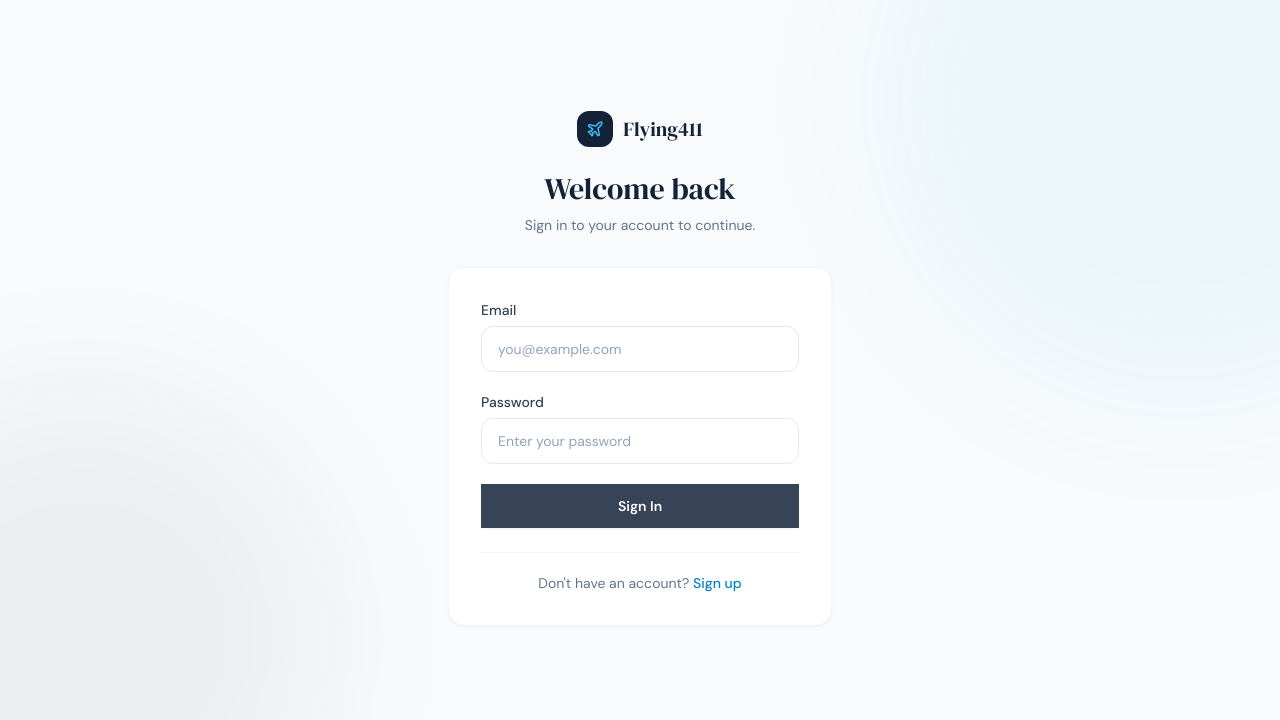
Authentication Flow › Login Page › should show error for invalid credentials
The image size is (1280, 720).
Type "invalid@email.com" into the field labelled "Email" at (640, 349), box [481,326,799,372]
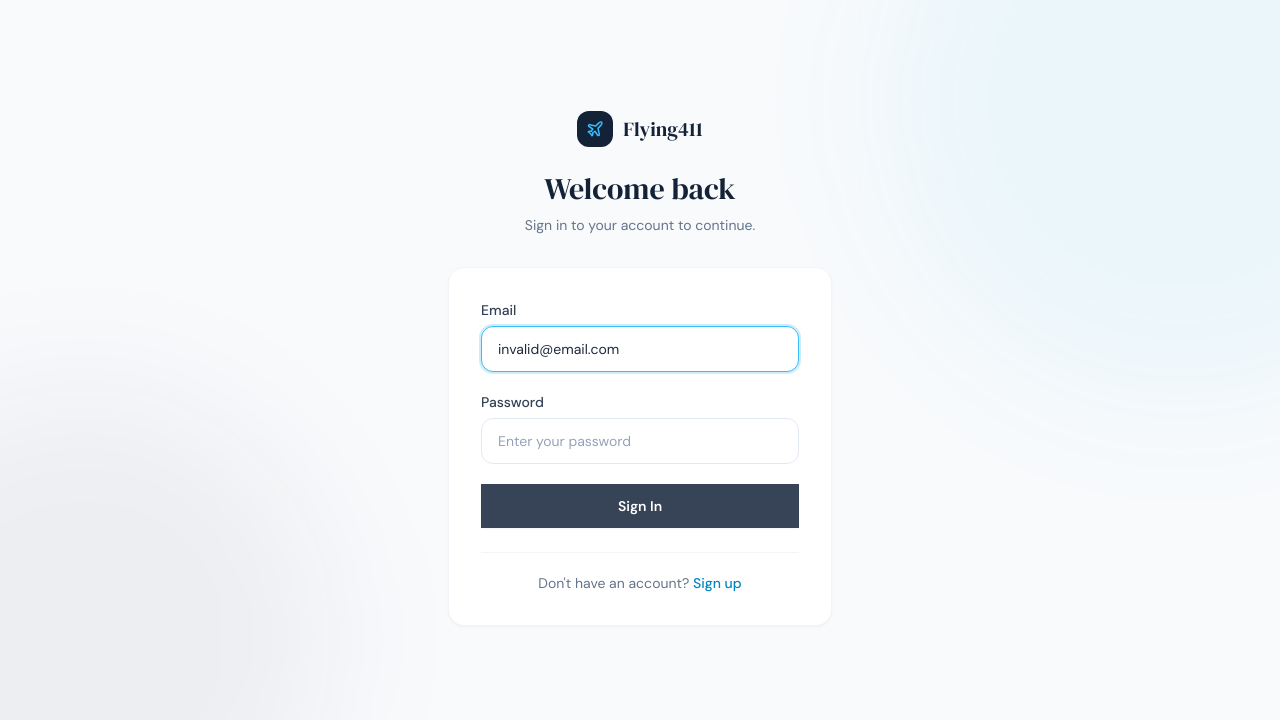
Type "wrongpassword" into the password field labelled "Password" at (640, 441), box [481,418,799,464]
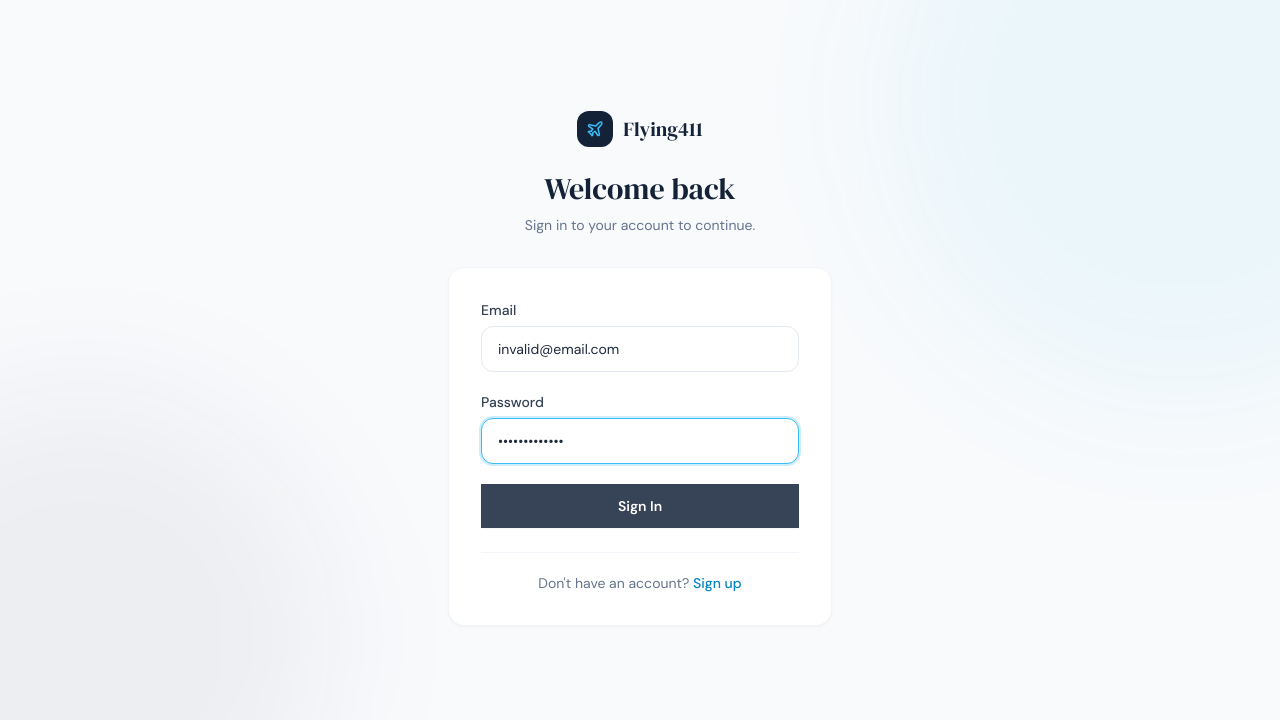
Click the submit button at (640, 506), box [481,484,799,528]
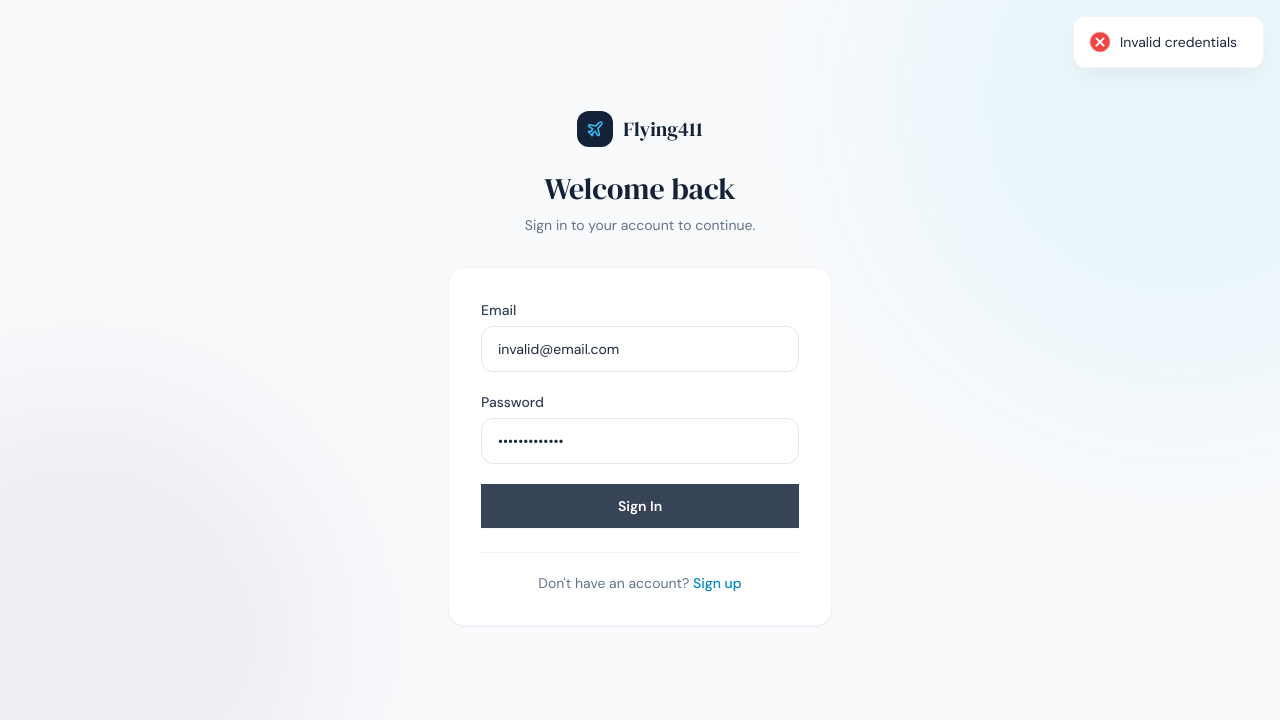
Now the text "Invalid credentials" is shown, box [1120,33,1237,51]
